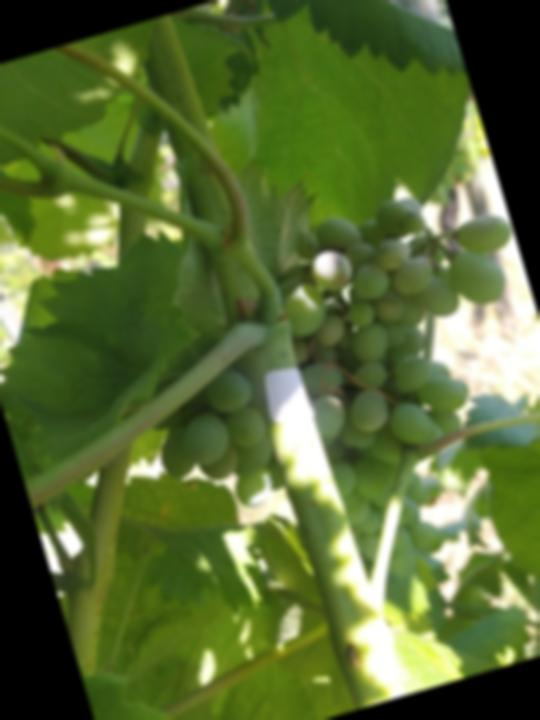grape: (105, 167, 540, 637)
